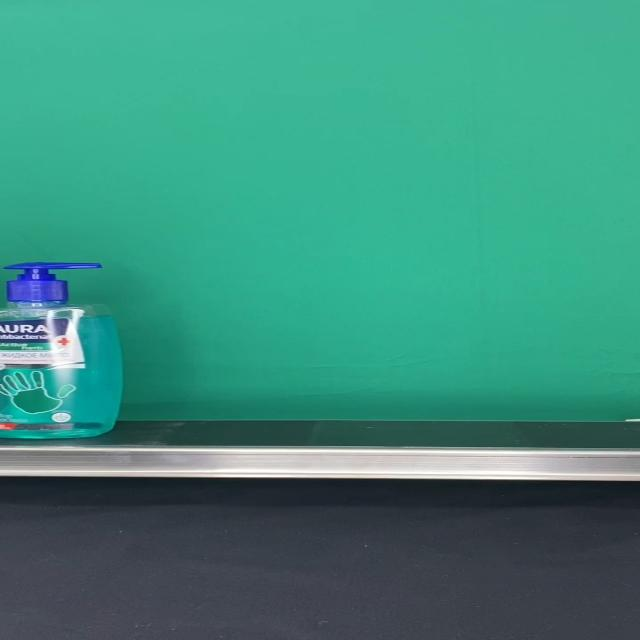Bottle: (0, 262, 122, 439)
Cap: (4, 262, 103, 302)
